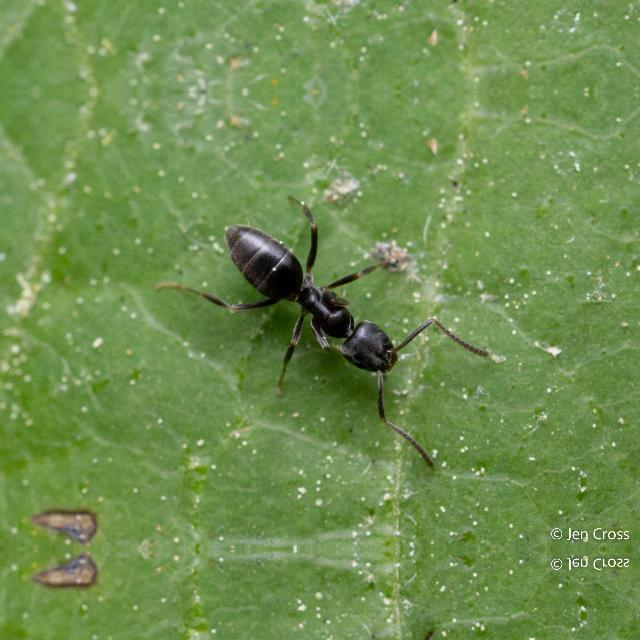Tapinoma: (192, 199, 460, 407)
